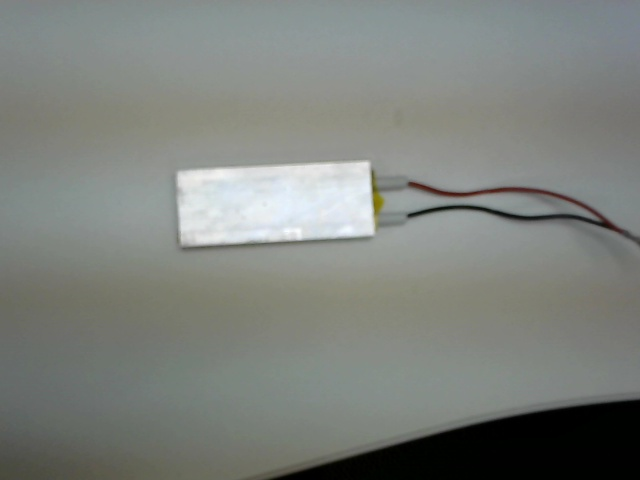heater: (144, 149, 398, 268)
